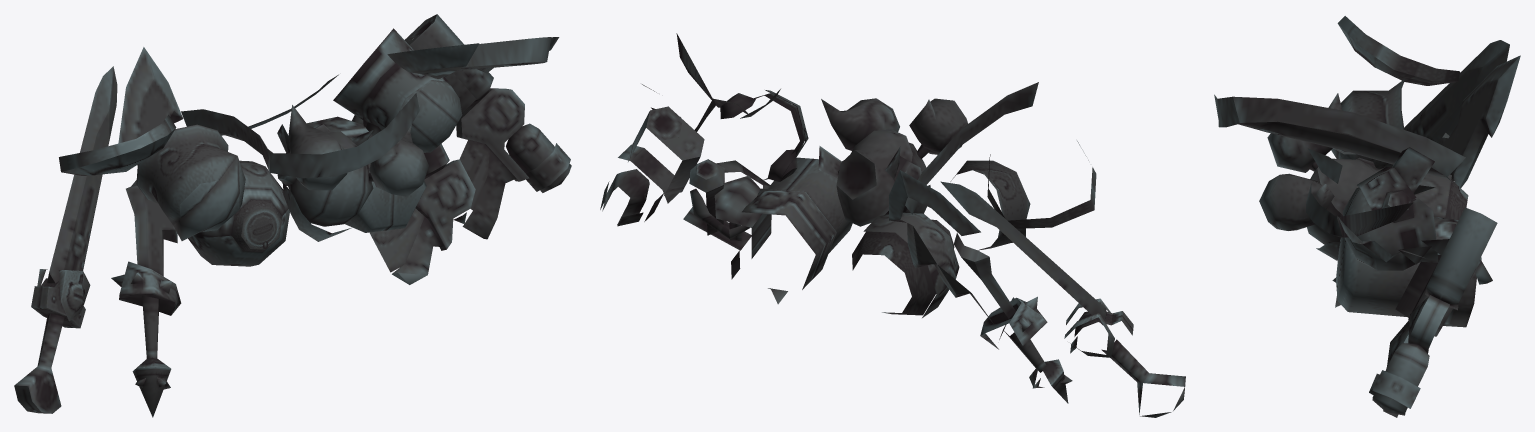
Rendered from arsenal_contents_items.glb.
The picture shows the model from 3 angles, left to right: view 1: azimuth 30°, elevation 25°; view 2: azimuth 150°, elevation 25°; view 3: azimuth 270°, elevation 25°; orthographic projection. The views are drawn at different scales.
Parts seen in each view (by area): view 1: arsenal.arsenal_contents_items-Mesh[0]; view 2: arsenal.arsenal_contents_items-Mesh[0]; view 3: arsenal.arsenal_contents_items-Mesh[0].
Part boxes in pixels (left/top/right/bottom): arsenal.arsenal_contents_items-Mesh[0]: left=14, top=14, right=571, bottom=417; arsenal.arsenal_contents_items-Mesh[0]: left=600, top=33, right=1185, bottom=417; arsenal.arsenal_contents_items-Mesh[0]: left=1214, top=16, right=1520, bottom=417.
Size of the model in its own units: 2.52 by 1.3 by 1.14.
1 material, 1 textured.
